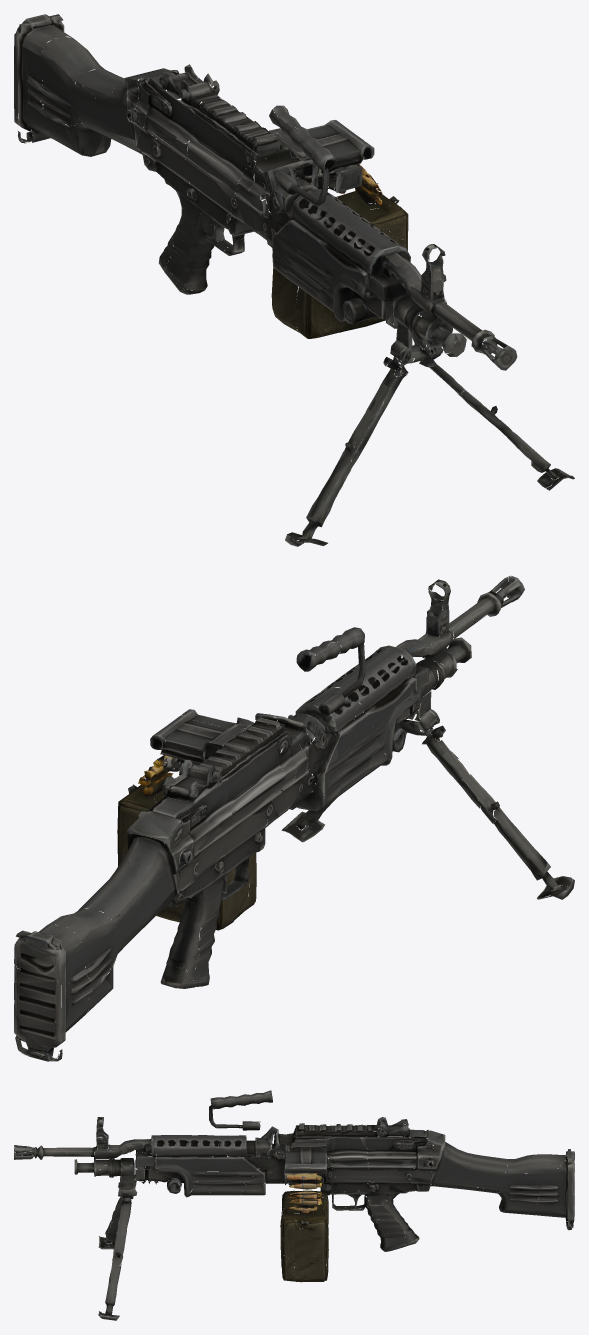
3 views of the same model, one above another, from view 1: azimuth 30°, elevation 25°; view 2: azimuth 150°, elevation 25°; view 3: azimuth 270°, elevation 25° (orthographic). The views are drawn at different scales.
Visible parts, largest first — view 1: tripo_node_d3a67a5b-e870-4d50-aba5-57abb654dbdd; view 2: tripo_node_d3a67a5b-e870-4d50-aba5-57abb654dbdd; view 3: tripo_node_d3a67a5b-e870-4d50-aba5-57abb654dbdd.
Boxes of the visible parts, box(x1,y1,x2,y2) form: tripo_node_d3a67a5b-e870-4d50-aba5-57abb654dbdd: box(14, 14, 574, 546); tripo_node_d3a67a5b-e870-4d50-aba5-57abb654dbdd: box(14, 576, 574, 1061); tripo_node_d3a67a5b-e870-4d50-aba5-57abb654dbdd: box(14, 1090, 574, 1320).
Bounding box in the file's own units: 0.34 × 0.3685 × 0.9985.
Materials: 1 (1 with a texture image).
